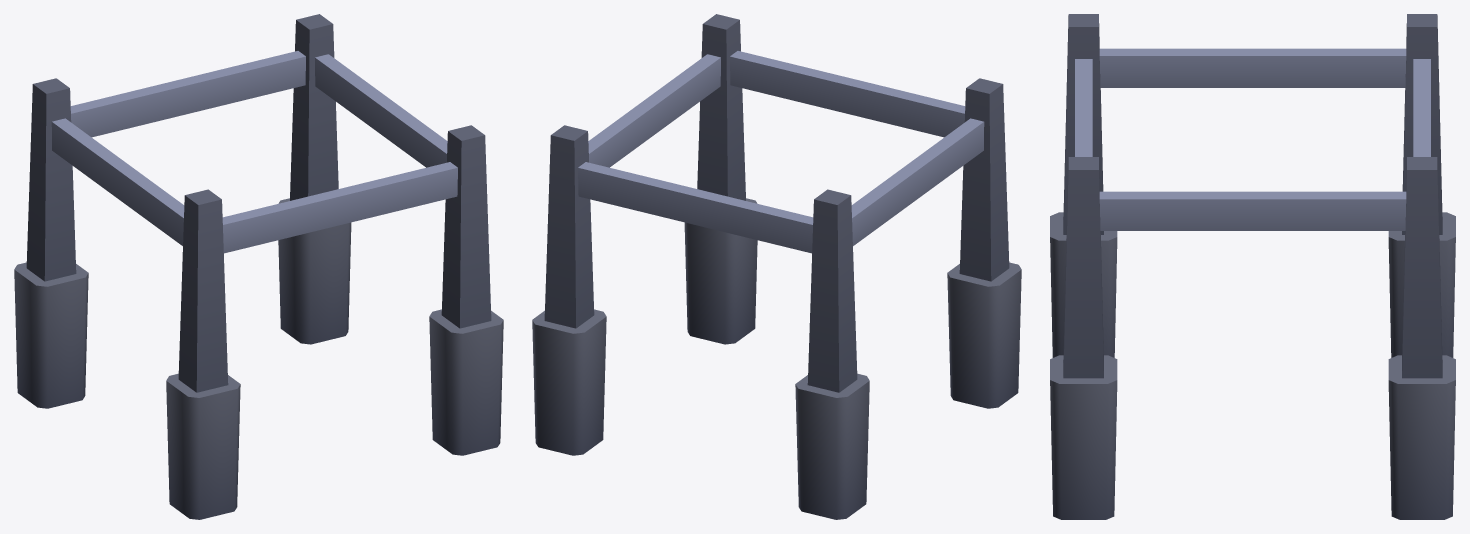
The model's file is structure-metal.glb.
The picture shows the model from 3 angles, left to right: view 1: azimuth 30°, elevation 25°; view 2: azimuth 150°, elevation 25°; view 3: azimuth 270°, elevation 25°; orthographic projection. The views are drawn at different scales.
Visible parts, largest first — view 1: structure-metal; view 2: structure-metal; view 3: structure-metal.
Part boxes in pixels (x1,y1,x2,y2): structure-metal: (14,14,503,519); structure-metal: (532,14,1021,519); structure-metal: (1050,14,1455,519).
Size of the model in its own units: 0.5354 by 0.5 by 0.5354.
